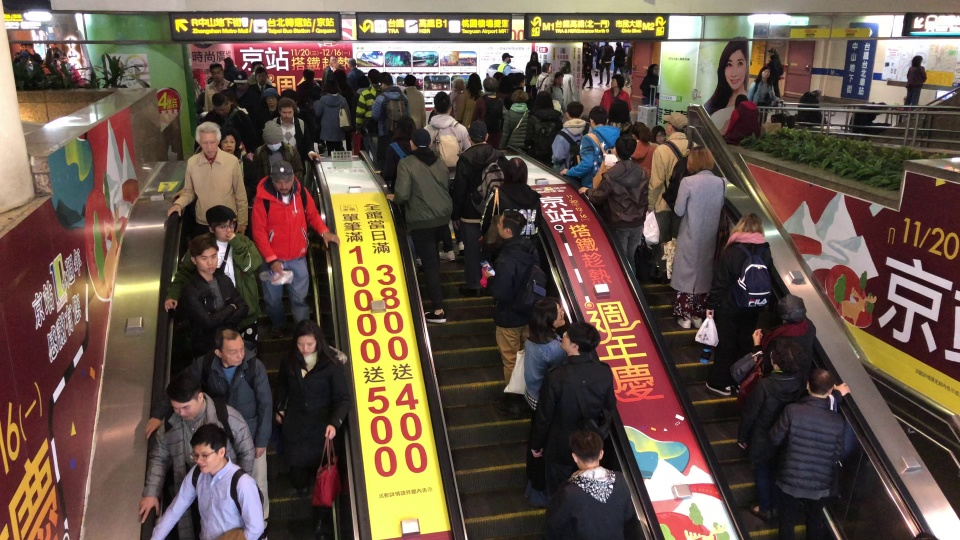person_head: (186, 423, 231, 474), (165, 378, 207, 419), (565, 431, 606, 467), (213, 327, 248, 366), (561, 321, 601, 352), (187, 236, 219, 274), (204, 205, 239, 239), (289, 324, 325, 356), (530, 299, 568, 326), (803, 367, 835, 398), (770, 341, 805, 369), (494, 209, 526, 238), (193, 122, 221, 154), (684, 145, 717, 171), (270, 160, 295, 194), (502, 156, 530, 186), (778, 294, 807, 321), (260, 121, 284, 150), (405, 127, 436, 149), (612, 135, 637, 160), (736, 211, 764, 233), (467, 119, 490, 145), (664, 112, 688, 134), (394, 115, 419, 135), (588, 105, 610, 127), (209, 93, 232, 114), (277, 98, 295, 122), (564, 101, 584, 120), (610, 100, 630, 118), (534, 91, 554, 108), (630, 121, 648, 139), (649, 125, 667, 143), (220, 133, 236, 153), (219, 133, 235, 153), (433, 99, 452, 115), (207, 63, 225, 79), (281, 89, 298, 104), (323, 80, 340, 95), (481, 76, 498, 91), (509, 89, 527, 103), (378, 71, 393, 87), (610, 73, 626, 88), (235, 71, 249, 88), (264, 88, 278, 105), (253, 67, 266, 85), (367, 69, 382, 83), (466, 72, 481, 85), (875, 101, 889, 114), (757, 66, 771, 79), (302, 67, 316, 79), (451, 77, 465, 89), (733, 94, 751, 103), (560, 60, 572, 73), (540, 62, 553, 73), (553, 71, 564, 84), (251, 61, 265, 71), (647, 63, 659, 74), (500, 53, 513, 63), (327, 55, 338, 66), (54, 50, 64, 62), (911, 55, 923, 65), (223, 58, 234, 68), (347, 57, 357, 68), (529, 51, 540, 61), (812, 88, 823, 97), (766, 48, 778, 56), (19, 43, 26, 49), (63, 54, 68, 61), (615, 41, 622, 46), (602, 41, 609, 44), (629, 41, 635, 44)
person_vbox: (746, 341, 860, 520), (525, 321, 626, 509), (247, 160, 351, 339), (136, 377, 263, 517), (275, 324, 345, 539), (384, 126, 459, 325), (144, 327, 272, 439), (696, 211, 771, 395), (490, 209, 555, 419), (773, 367, 852, 539), (149, 423, 264, 540), (646, 112, 714, 286), (158, 204, 260, 314), (668, 148, 727, 330), (578, 135, 652, 280), (448, 119, 507, 297), (544, 431, 636, 540), (166, 121, 253, 234), (747, 293, 819, 400), (177, 236, 251, 336), (478, 156, 544, 242), (559, 105, 623, 179), (524, 298, 569, 401), (266, 98, 321, 167), (422, 99, 473, 173), (254, 120, 307, 186), (375, 115, 421, 186), (550, 100, 592, 170), (524, 90, 564, 163), (313, 80, 351, 156), (203, 93, 252, 147), (371, 71, 412, 135), (354, 68, 387, 138), (470, 76, 503, 146), (747, 66, 786, 124), (625, 121, 660, 181), (724, 94, 763, 146), (498, 89, 527, 149), (902, 55, 930, 112), (205, 62, 235, 113), (598, 73, 635, 113), (797, 88, 833, 128), (848, 102, 892, 133), (461, 73, 484, 125), (559, 60, 582, 111), (256, 88, 285, 124), (321, 55, 347, 94), (345, 57, 369, 99), (295, 67, 320, 107), (766, 47, 784, 98), (248, 70, 277, 101), (606, 100, 635, 131), (46, 50, 69, 89), (524, 51, 542, 94), (63, 53, 85, 88), (639, 64, 661, 99), (547, 71, 567, 108), (447, 77, 465, 117), (597, 41, 610, 87), (582, 42, 594, 89), (612, 41, 625, 82), (536, 62, 552, 94), (625, 41, 635, 88), (497, 53, 515, 74)
